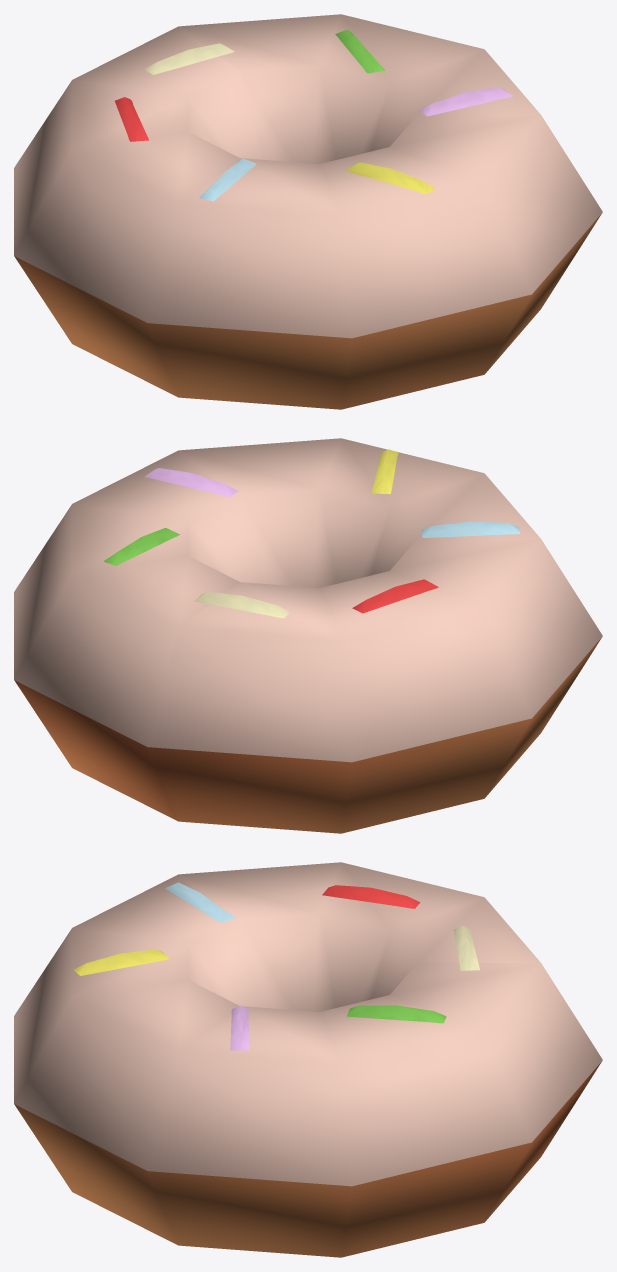
Rendered from Doughnut_A_3.FBX.
3 renders of one model, top to bottom at view 1: azimuth 30°, elevation 25°; view 2: azimuth 150°, elevation 25°; view 3: azimuth 270°, elevation 25°, orthographic.
Parts seen in each view (by area): view 1: Doughnut; view 2: Doughnut; view 3: Doughnut.
Part boxes in pixels (bbox=[...]): Doughnut: bbox=[14, 14, 602, 409]; Doughnut: bbox=[14, 438, 602, 833]; Doughnut: bbox=[14, 862, 602, 1257].
Size of the model in its own units: 52.77 by 19.96 by 51.97.
